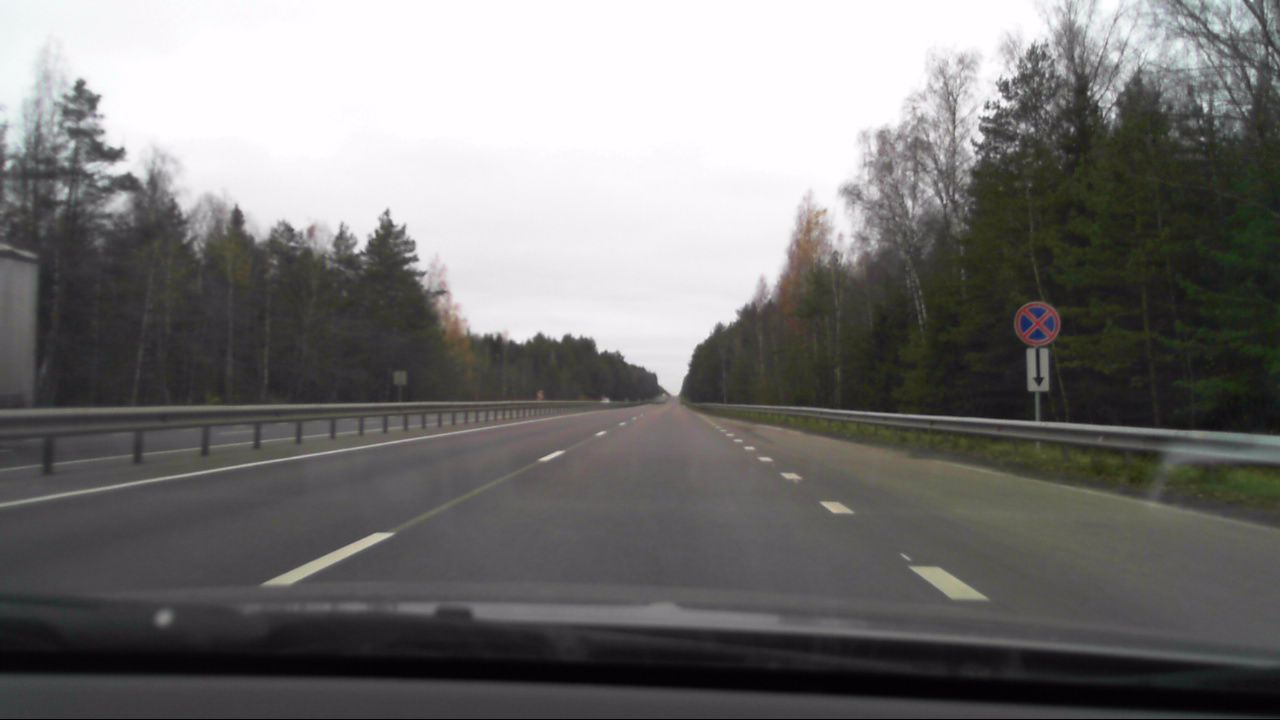No Parking: (1013, 301, 1062, 347)
